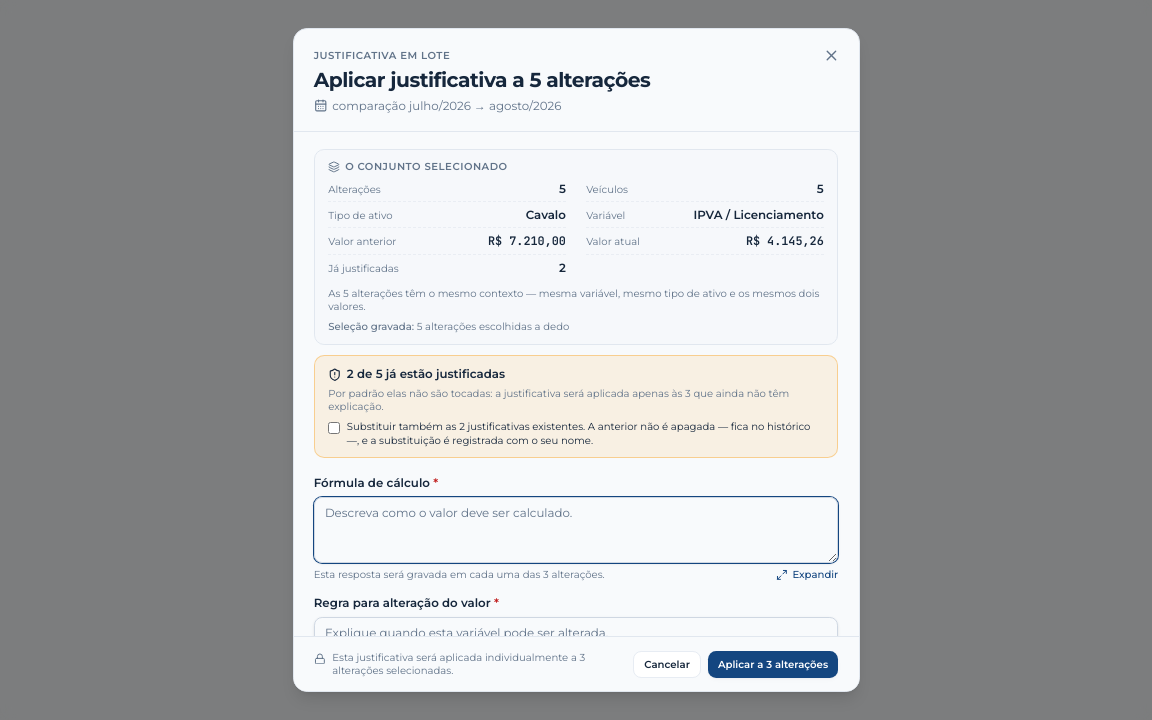
Scenario: o que já está justificado › marcada por um administrador, o alvo passa a ser o conjunto inteiro
Click the checkbox at [334, 428], box x1=328 y1=422 x2=340 y2=434
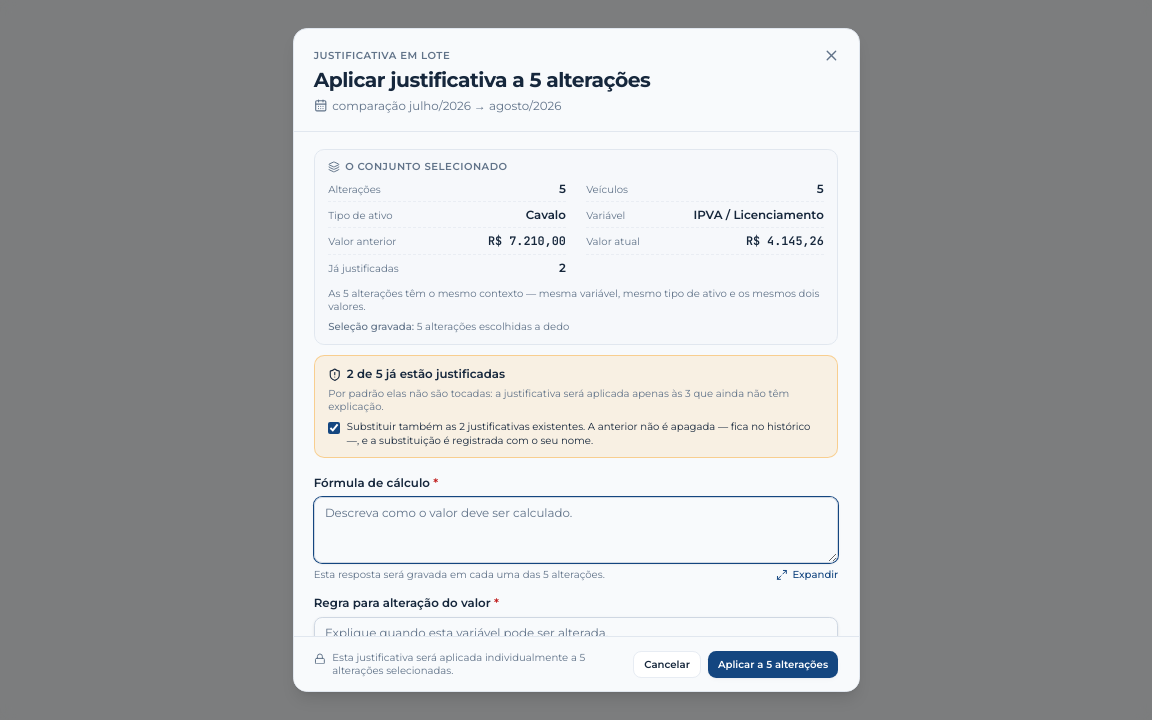
Check: the button "Aplicar a 5 alterações" is shown, box x1=708 y1=651 x2=838 y2=678
